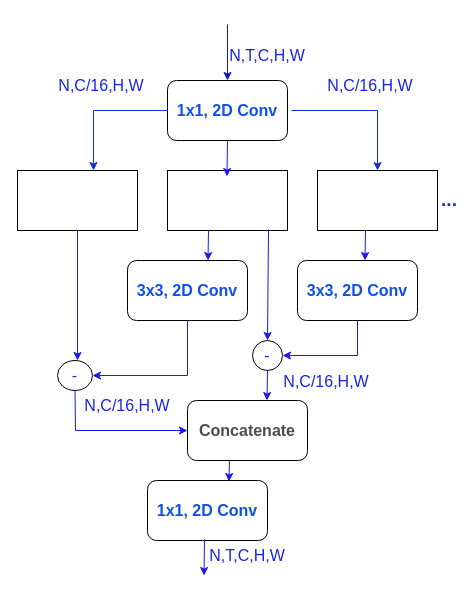
This 475x601 diagram has some shape labels left out. Here are the shapes that lost their labels. From the top down, the centre of each, then its label:
At point 77,200: "Feature t-1".
At point 227,200: "Feature t".
At point 377,200: "Feature t+1".
